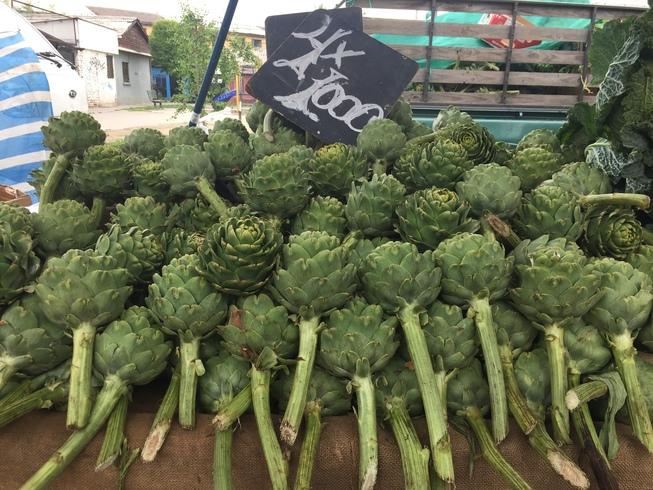precio: (240, 9, 433, 157)
